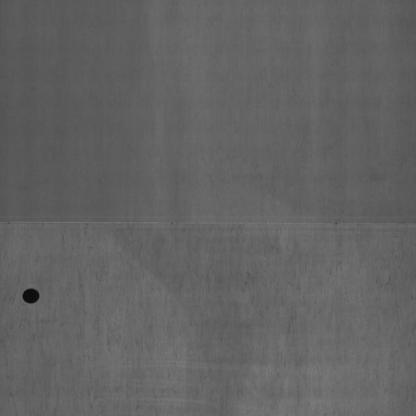punching_hole: (19, 281, 43, 311)
welding_line: (1, 208, 414, 238)
